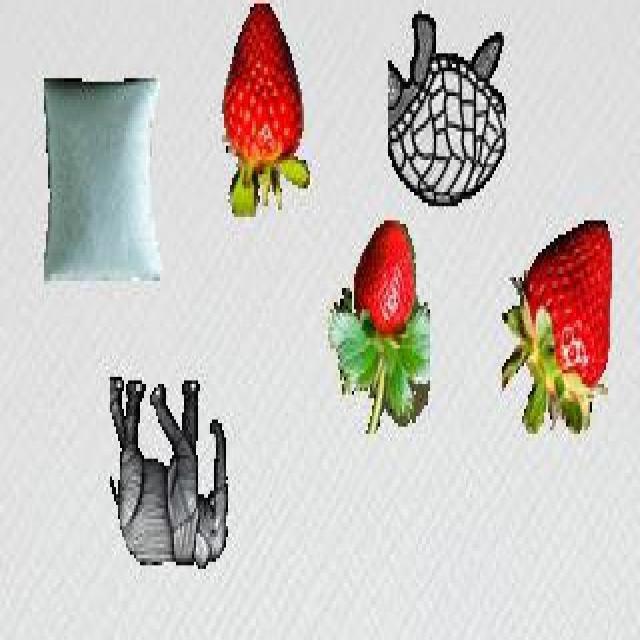Other Objects: (43, 74, 162, 286)
